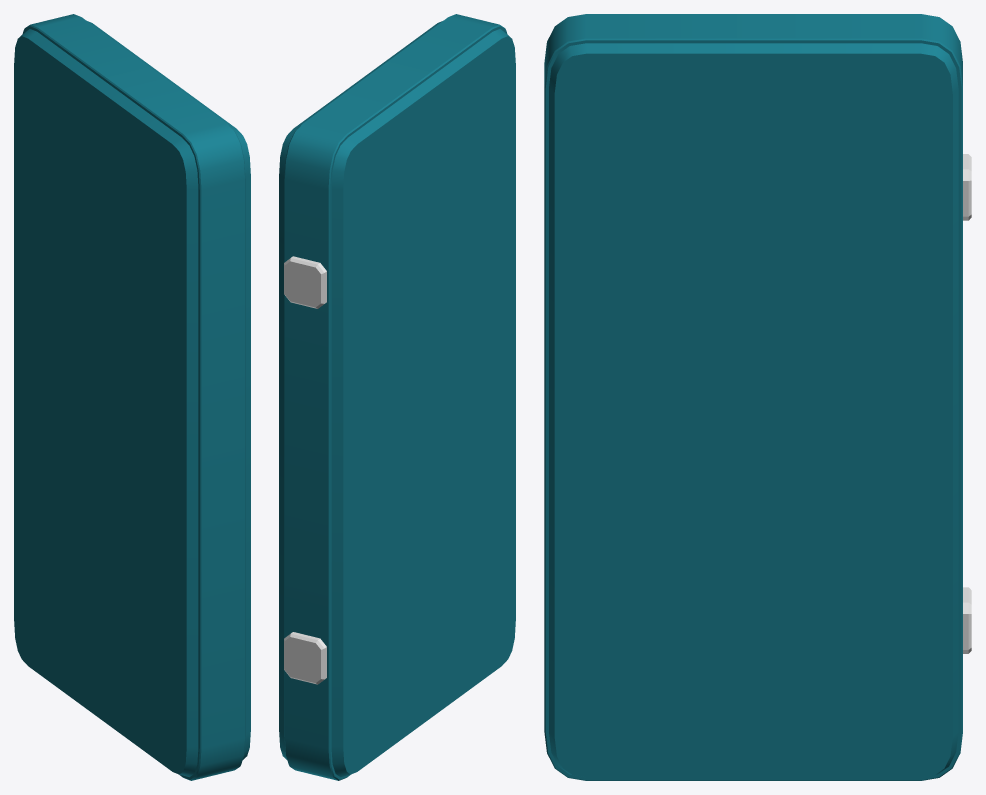
The model's file is PF_AdSign.FBX.
3 renders of one model, left to right at view 1: azimuth 30°, elevation 25°; view 2: azimuth 150°, elevation 25°; view 3: azimuth 270°, elevation 25°, orthographic. The views are drawn at different scales.
Visible parts, largest first — view 1: Object097, Object096; view 2: Object097, Object096, Box066, Box065; view 3: Object097, Object096.
Boxes of the visible parts, box(x1,y1,x2,y2) form: Object097: box(14, 21, 250, 777); Object096: box(22, 14, 245, 780); Object097: box(279, 21, 515, 777); Object096: box(284, 14, 507, 780); Box066: box(284, 632, 326, 684); Box065: box(284, 256, 326, 308); Object097: box(549, 43, 958, 777); Object096: box(544, 14, 962, 780).
Size of the model in its own units: 159 by 1524 by 795.
